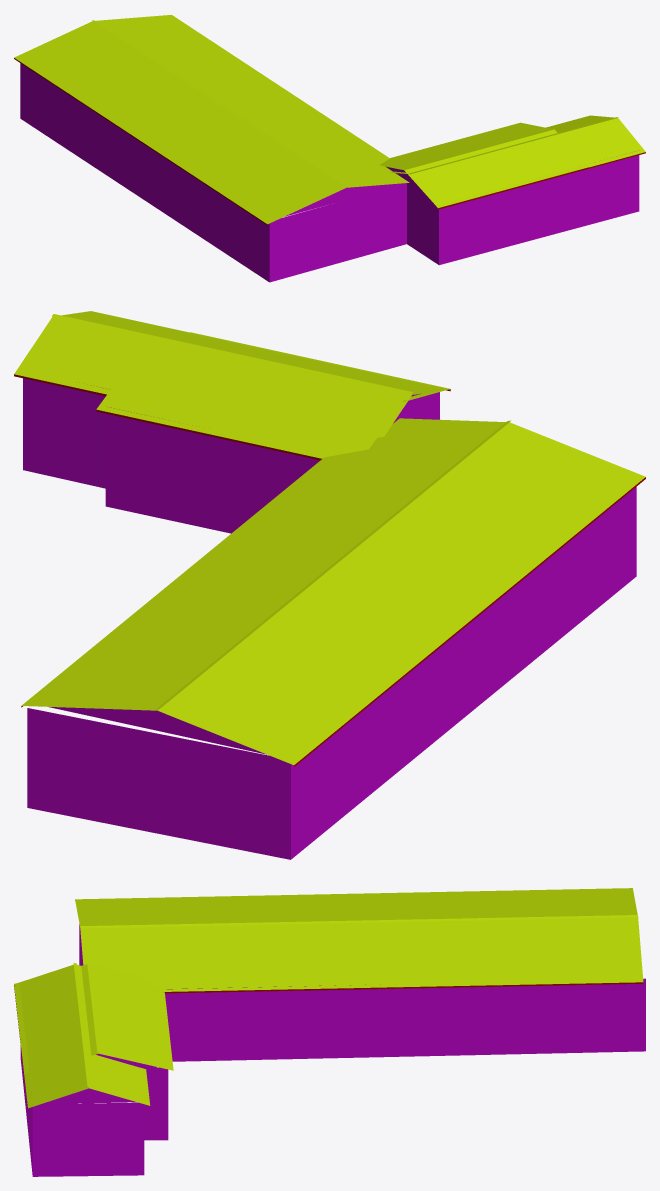
File: bgj_433.glb
3 views of the same model, one above another, from view 1: azimuth 30°, elevation 25°; view 2: azimuth 150°, elevation 25°; view 3: azimuth 270°, elevation 25° (orthographic). The views are drawn at different scales.
Parts seen in each view (by area): view 1: bgj_433; view 2: bgj_433; view 3: bgj_433.
Part boxes in pixels (box(x1,y1,x2,y2)): bgj_433: box(14, 15, 645, 282); bgj_433: box(14, 311, 645, 859); bgj_433: box(14, 888, 645, 1176).
Size of the model in its own units: 38.28 by 7.43 by 46.57.
